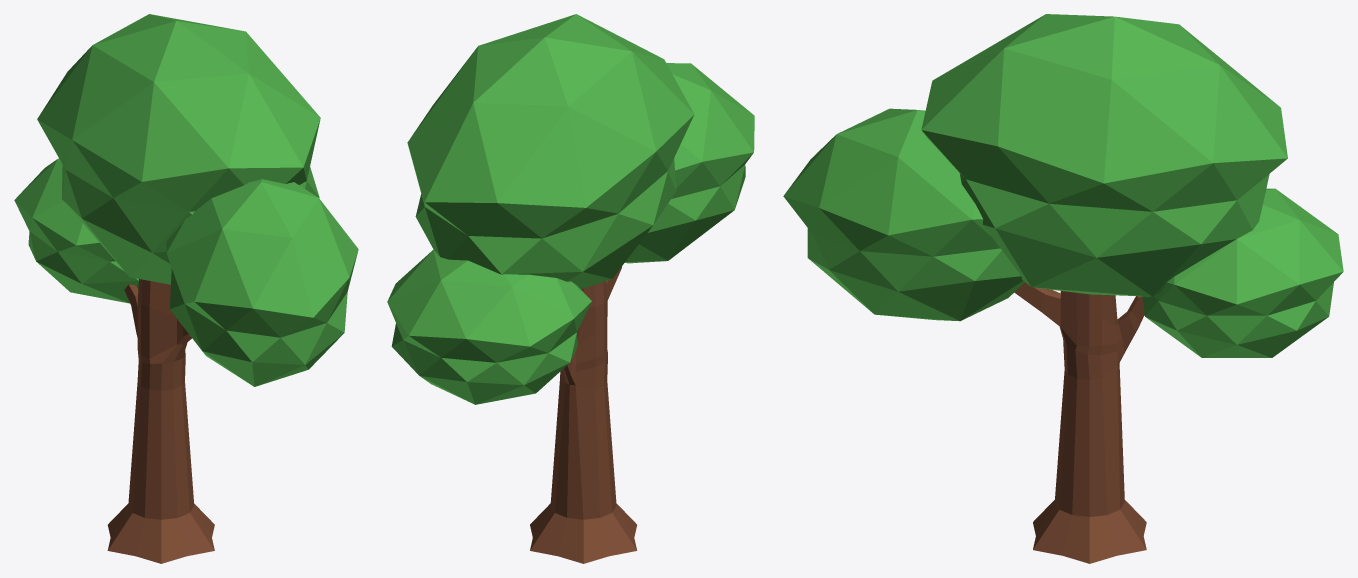
The model's file is MacieiraSemMaca.fbx.
3 views of the same model, side by side, from view 1: azimuth 30°, elevation 25°; view 2: azimuth 150°, elevation 25°; view 3: azimuth 270°, elevation 25° (orthographic). The views are drawn at different scales.
Visible parts, largest first — view 1: MacieiraSemMaca; view 2: MacieiraSemMaca; view 3: MacieiraSemMaca.
Part boxes in pixels (left/top/right/bottom): MacieiraSemMaca: left=14, top=14, right=358, bottom=563; MacieiraSemMaca: left=387, top=14, right=754, bottom=563; MacieiraSemMaca: left=783, top=14, right=1343, bottom=563.
Size of the model in its own units: 292 by 622 by 592.
